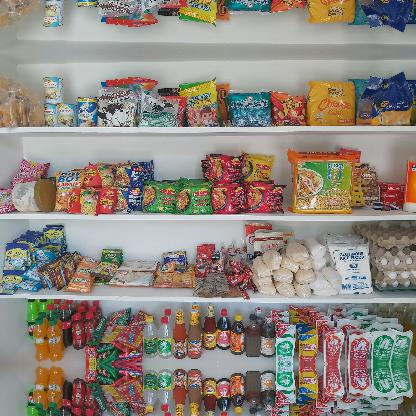Lady-s-Choice: (12, 178, 57, 212)
